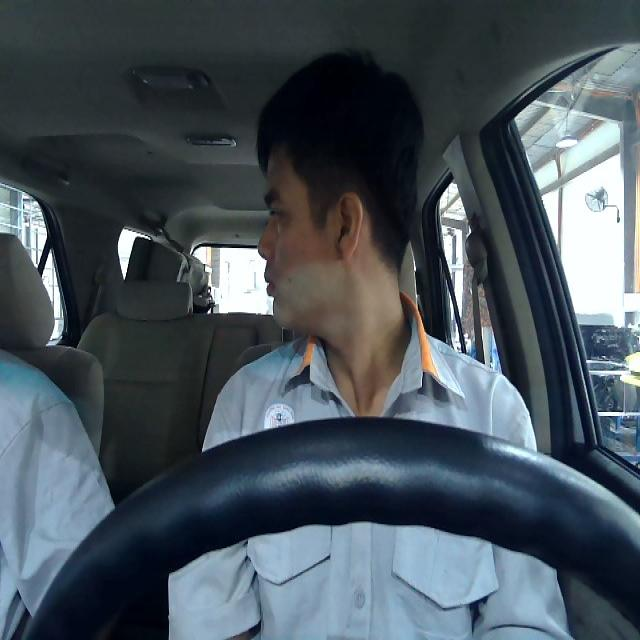seeing_left: (256, 140, 366, 333)
